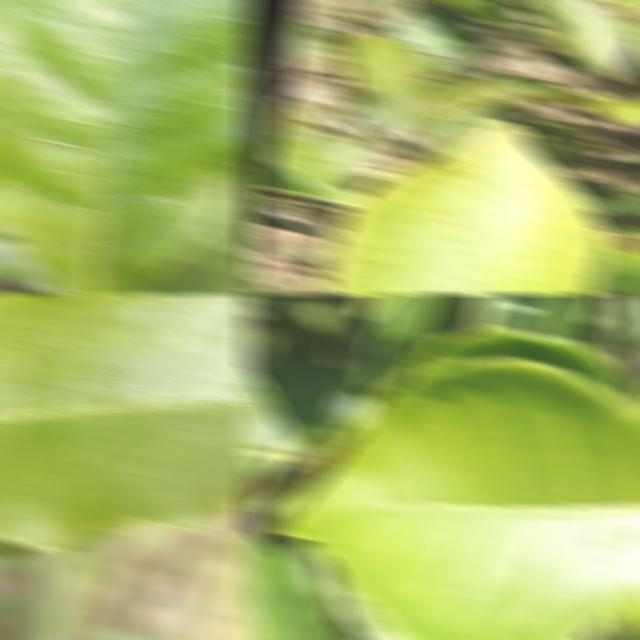Leaf: (270, 357, 640, 640), (0, 0, 255, 295), (0, 293, 255, 550), (323, 120, 607, 295), (127, 163, 255, 295), (411, 74, 596, 141), (362, 293, 464, 410), (256, 360, 374, 456), (518, 0, 639, 80), (381, 0, 484, 76), (260, 132, 365, 205), (243, 369, 305, 487), (337, 34, 429, 111), (33, 543, 93, 640), (479, 293, 583, 336), (298, 137, 384, 186), (438, 0, 529, 35), (356, 300, 392, 377), (610, 293, 640, 378), (590, 95, 640, 128), (378, 0, 413, 18), (612, 226, 640, 237)
